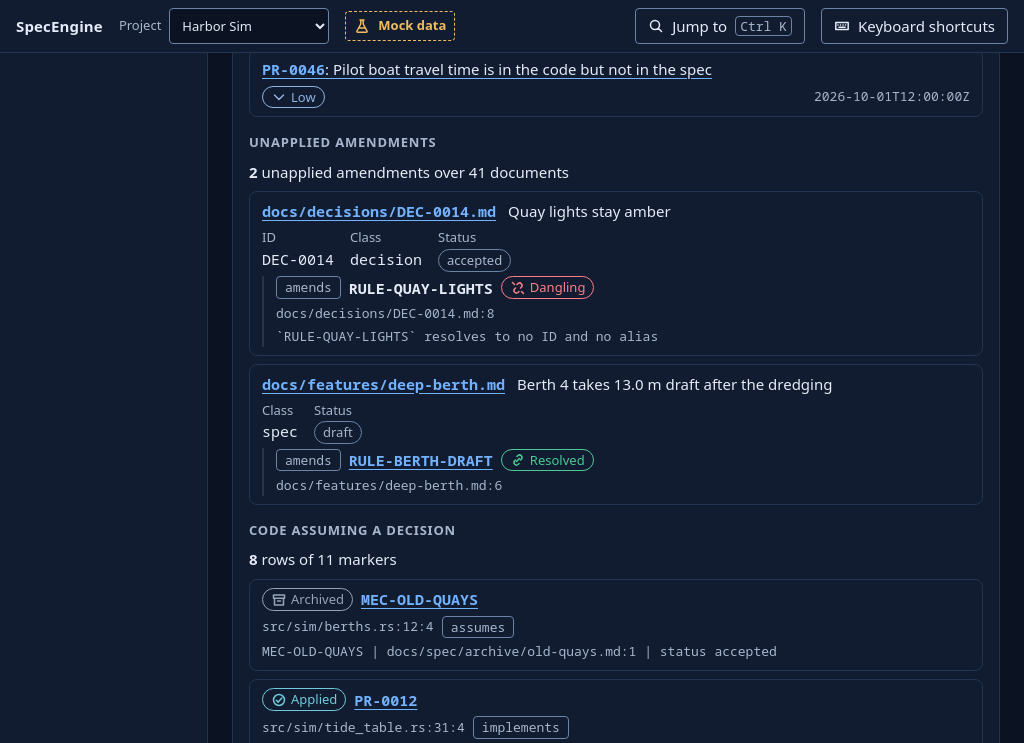
Scenario: Health over the mock › normal: docs/features/deep-berth.md's path opens its document in the tree, a node of the mock's corpus
(page scrolled)
Click the link "docs/features/deep-berth.md" at (384,385), box x1=262 y1=373 x2=505 y2=397
(page scrolled)
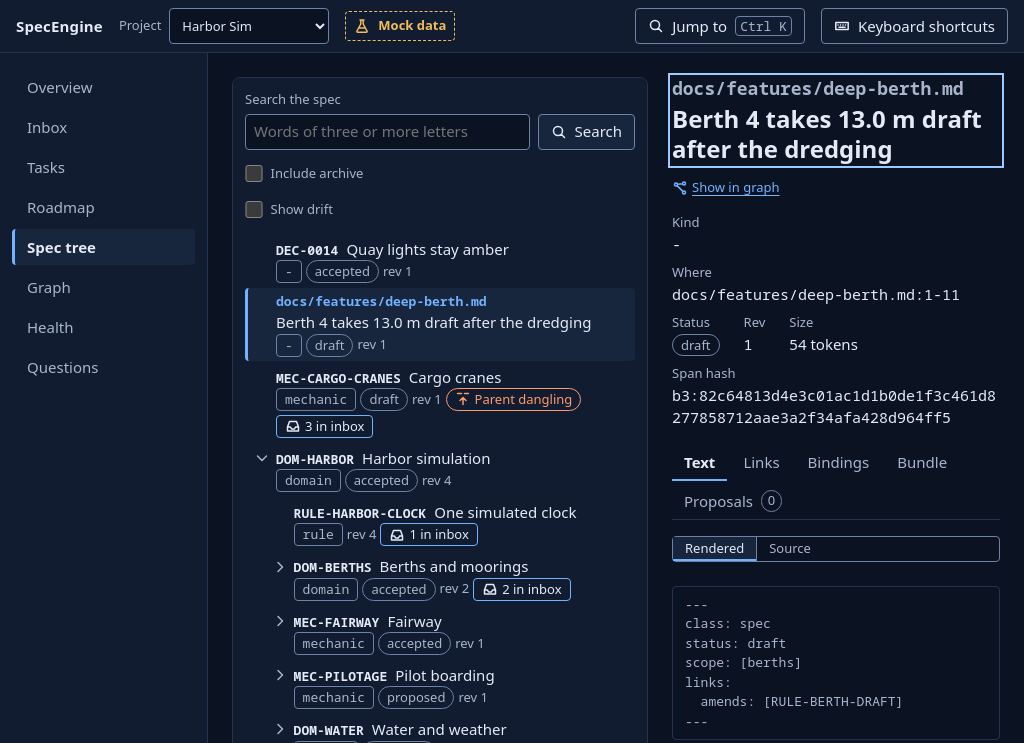
Check: the heading that starts with "docs/features/deep-berth.md" shows "Berth 4 takes 13.0 m draft after the dredging", box x1=672 y1=102 x2=982 y2=164
Check: the text "resolves to no ID and no alias" is gone
